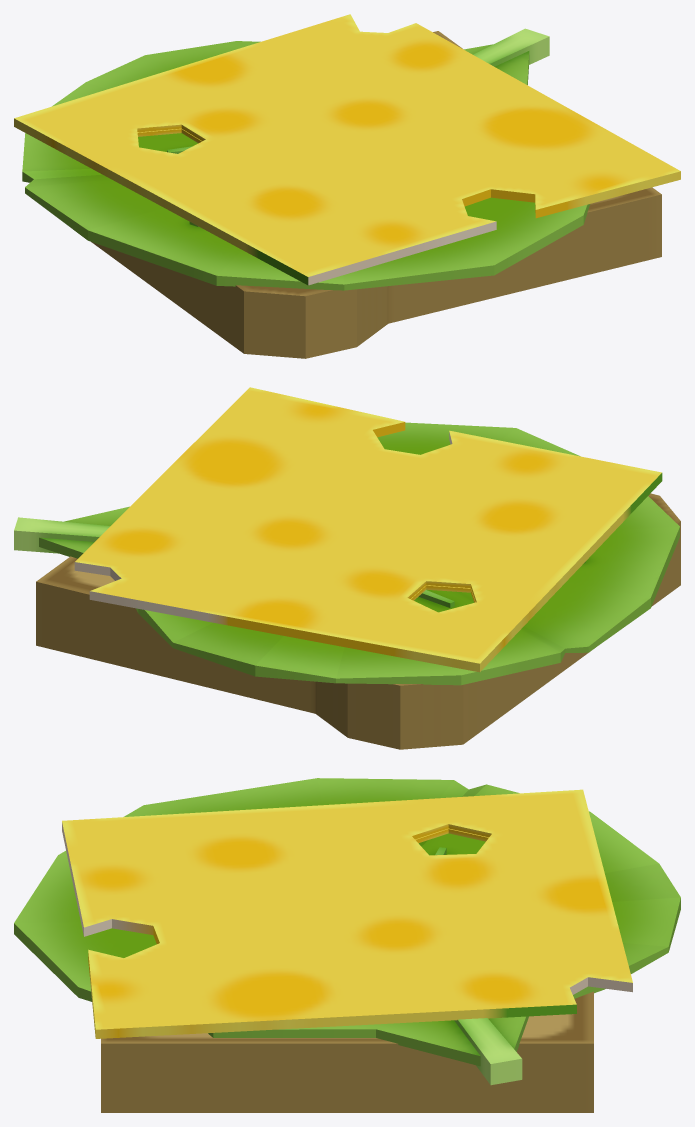
Rendered from Sandwich3.fbx.
3 renders of one model, top to bottom at view 1: azimuth 30°, elevation 25°; view 2: azimuth 150°, elevation 25°; view 3: azimuth 270°, elevation 25°, orthographic. The views are drawn at different scales.
Parts seen in each view (by area): view 1: polySurface21; view 2: polySurface21; view 3: polySurface21.
Part boxes in pixels (left/top/right/bottom): polySurface21: left=14, top=14, right=680, bottom=358; polySurface21: left=14, top=387, right=680, bottom=749; polySurface21: left=14, top=778, right=680, bottom=1112.
Size of the model in its own units: 1.31 by 0.1932 by 1.27.
